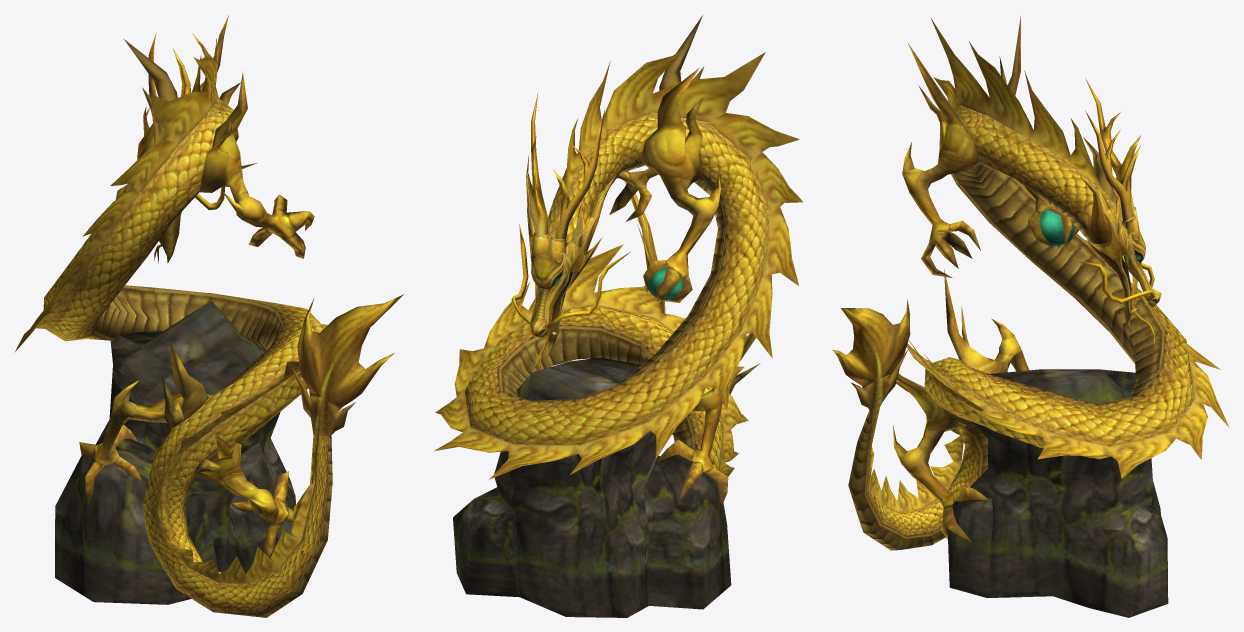
Rendered from cj_jang_gate_dragon.glb.
3 views of the same model, side by side, from view 1: azimuth 30°, elevation 25°; view 2: azimuth 150°, elevation 25°; view 3: azimuth 270°, elevation 25° (orthographic). The views are drawn at different scales.
Visible parts, largest first — view 1: cj_jang_dragon; view 2: cj_jang_dragon; view 3: cj_jang_dragon.
Part boxes in pixels (<box>): cj_jang_dragon: <box>15,15,404,617</box>; cj_jang_dragon: <box>434,15,803,617</box>; cj_jang_dragon: <box>832,16,1229,617</box>.
Size of the model in its own units: 12.04 by 18.72 by 13.18.
Materials: 1 (1 with a texture image).
